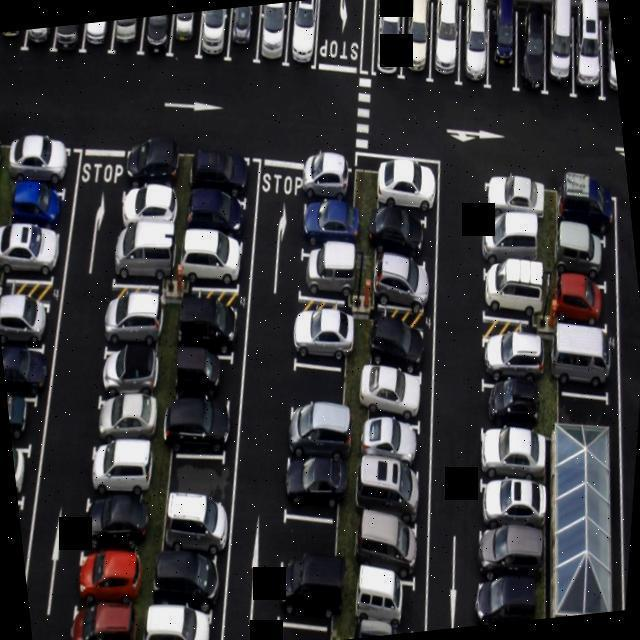space-empty: (164, 440, 232, 508), (272, 514, 339, 579), (286, 362, 349, 420), (555, 387, 624, 439), (269, 616, 333, 640)
space-occupied: (347, 510, 426, 594), (352, 454, 424, 534), (470, 368, 547, 442), (559, 5, 616, 103), (475, 469, 551, 541), (348, 568, 424, 638), (475, 418, 551, 488), (276, 455, 347, 529), (84, 435, 151, 508), (476, 324, 545, 394), (283, 395, 354, 463), (477, 210, 544, 281), (450, 5, 503, 94), (360, 359, 425, 430), (478, 260, 549, 325), (171, 345, 240, 411), (270, 572, 339, 638), (507, 16, 558, 104), (150, 551, 220, 615), (363, 249, 429, 316), (479, 8, 529, 96), (391, 0, 444, 83), (361, 0, 418, 77), (176, 237, 250, 296), (290, 305, 354, 372), (0, 220, 63, 288), (421, 2, 470, 89), (547, 273, 615, 335), (159, 503, 229, 563), (175, 294, 245, 354), (69, 551, 133, 615), (549, 233, 615, 295), (549, 340, 618, 399), (165, 399, 235, 457), (295, 200, 359, 262), (539, 7, 584, 95), (183, 147, 252, 204), (99, 290, 162, 352), (93, 387, 158, 447), (473, 567, 540, 625), (362, 416, 426, 476), (5, 177, 68, 237), (112, 230, 170, 295), (283, 0, 333, 74), (479, 522, 543, 578), (479, 170, 544, 225), (0, 290, 53, 357), (294, 249, 355, 307), (293, 157, 359, 210), (122, 138, 183, 194), (550, 184, 613, 238), (371, 205, 431, 261), (84, 497, 143, 553), (186, 194, 249, 246), (115, 179, 179, 229), (193, 7, 242, 71), (223, 4, 271, 69), (13, 142, 74, 193), (376, 162, 433, 216), (368, 315, 424, 369), (98, 345, 155, 396), (253, 1, 297, 66), (2, 344, 46, 406), (164, 11, 212, 66), (591, 12, 619, 104), (145, 605, 217, 640), (137, 13, 185, 63), (6, 384, 40, 454), (109, 16, 155, 63), (66, 605, 127, 640), (21, 25, 69, 62), (47, 22, 95, 55), (80, 19, 126, 51), (11, 440, 31, 510), (350, 626, 414, 639)
